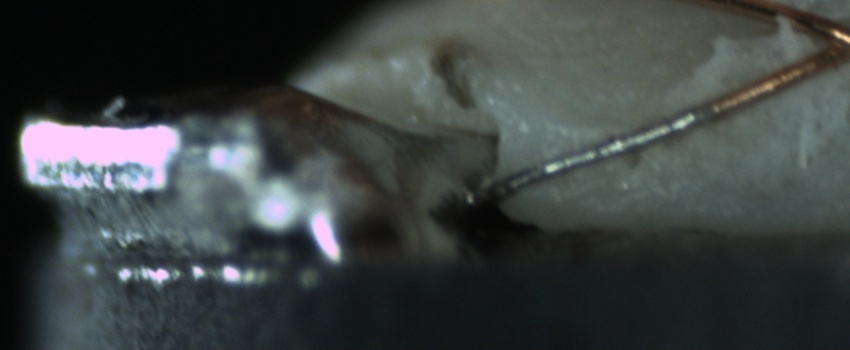CL: (777, 7, 849, 82)
DL: (534, 114, 639, 153)
TS: (474, 105, 711, 208)
